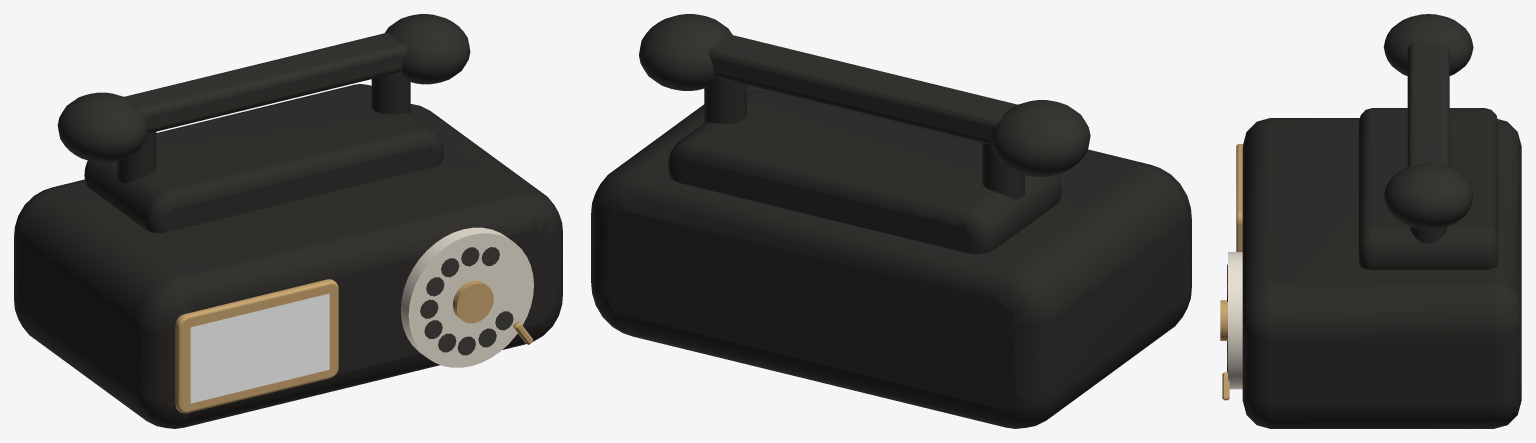
The model's file is rotary.glb.
3 views of the same model, side by side, from view 1: azimuth 30°, elevation 25°; view 2: azimuth 150°, elevation 25°; view 3: azimuth 270°, elevation 25° (orthographic). The views are drawn at different scales.
Visible parts, largest first — view 1: Body, Handset, Screen, Dial, Brass, Hole; view 2: Body, Handset; view 3: Body, Handset, Dial, Brass.
Boxes of the visible parts, x1,y1,x2,y2 form: Body: (14, 71, 562, 428); Handset: (57, 14, 470, 162); Screen: (190, 293, 329, 403); Dial: (401, 227, 533, 367); Brass: (175, 279, 533, 413); Hole: (420, 247, 513, 355); Body: (591, 77, 1191, 428); Handset: (639, 14, 1090, 176); Body: (1242, 108, 1521, 428); Handset: (1383, 14, 1473, 229); Dial: (1228, 252, 1242, 389); Brass: (1220, 144, 1243, 400).
Size of the model in its own units: 0.5 by 0.2981 by 0.324.
